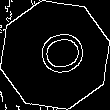O_W: (25, 28, 85, 82)
